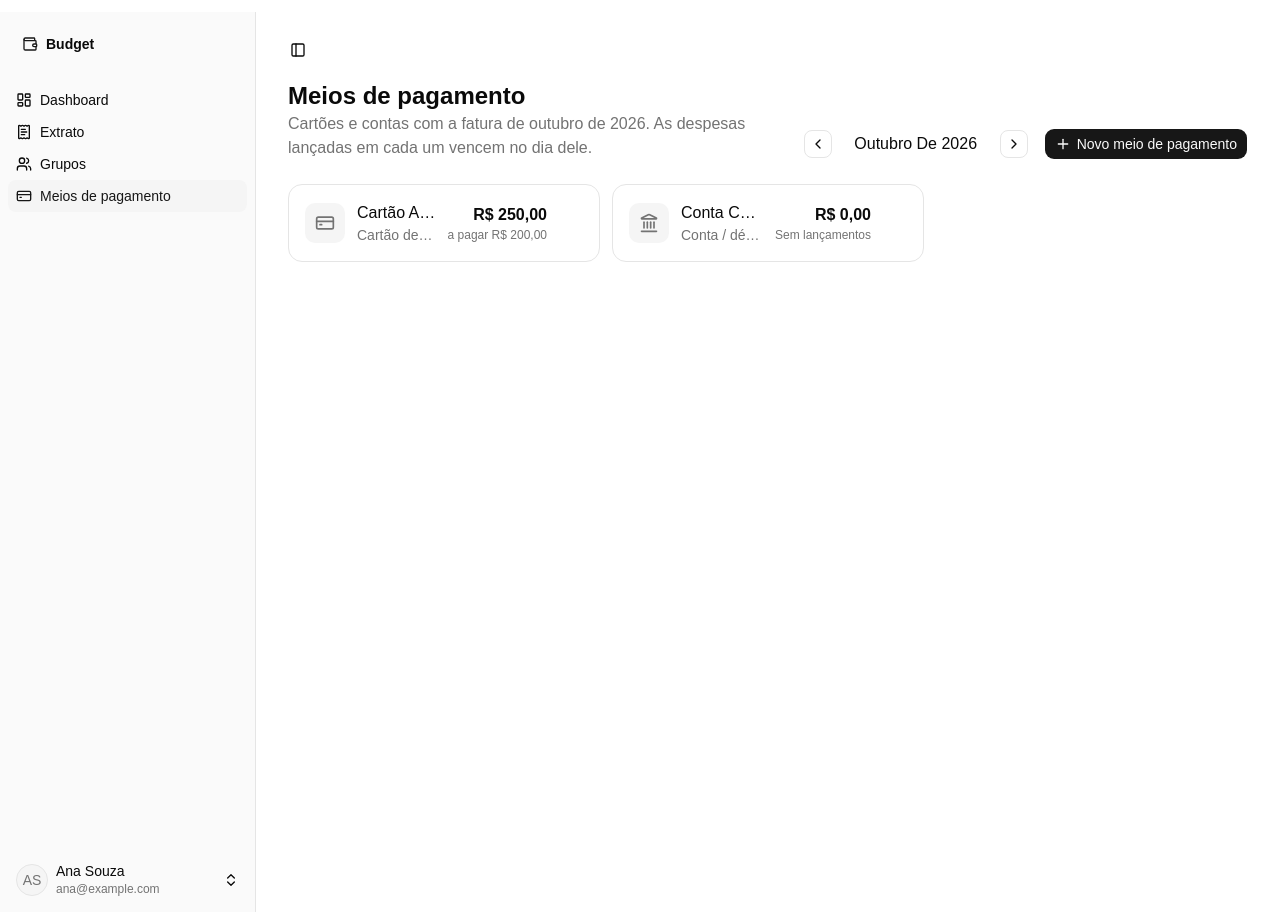
Scenario: Payment methods route (/meios-de-pagamento) › changes month
Expected: the heading "Meios de pagamento" is shown, [288,82,525,109]
Click the button named "Próximo mês" at (1014, 144), box [1000,130,1028,158]
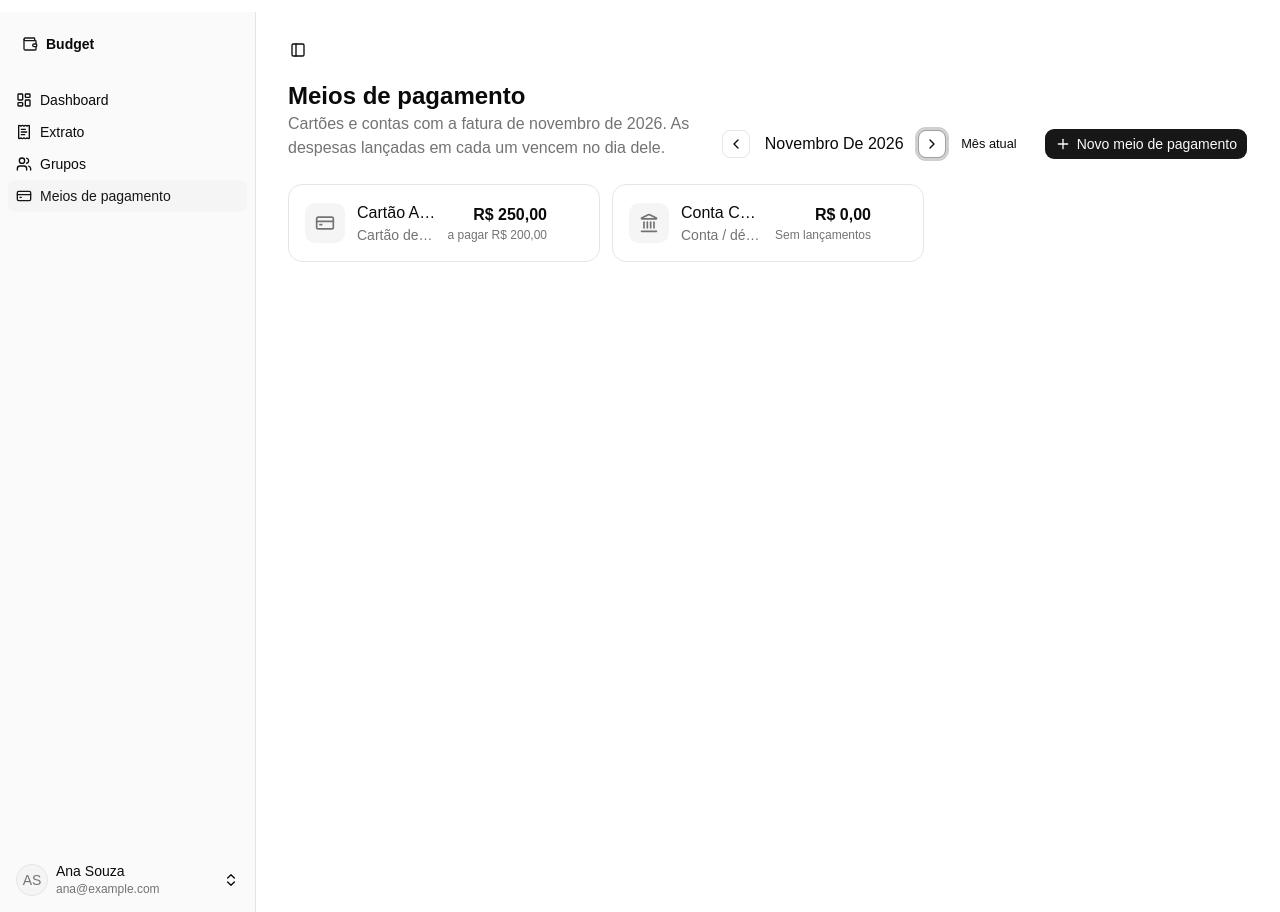
Result: the text "fatura de novembro de 2026" is shown at [288,112,706,160]
